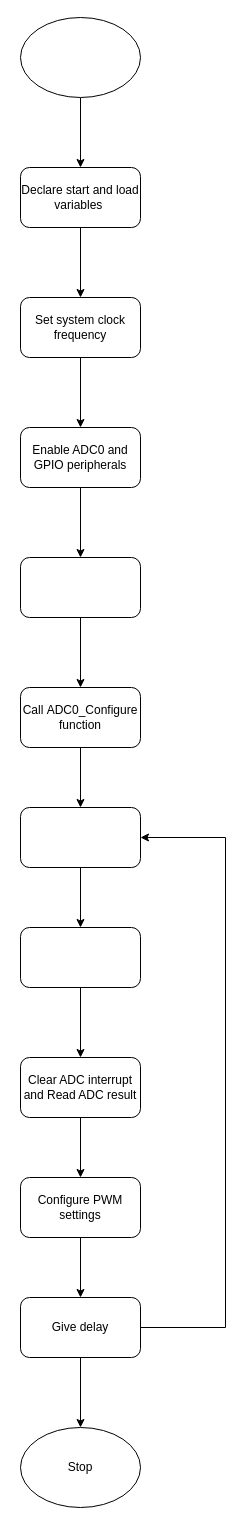
Some shapes in this 251 by 1525 pixel diagram are drawn without their labels. Each missing label, with the centre of its shape:
"Call GPIO_F_Configure function" goes at (x=80, y=587).
"Infinite loop" goes at (x=80, y=837).
"Start" goes at (x=80, y=57).
"Trigger ADC conversion" goes at (x=80, y=957).
